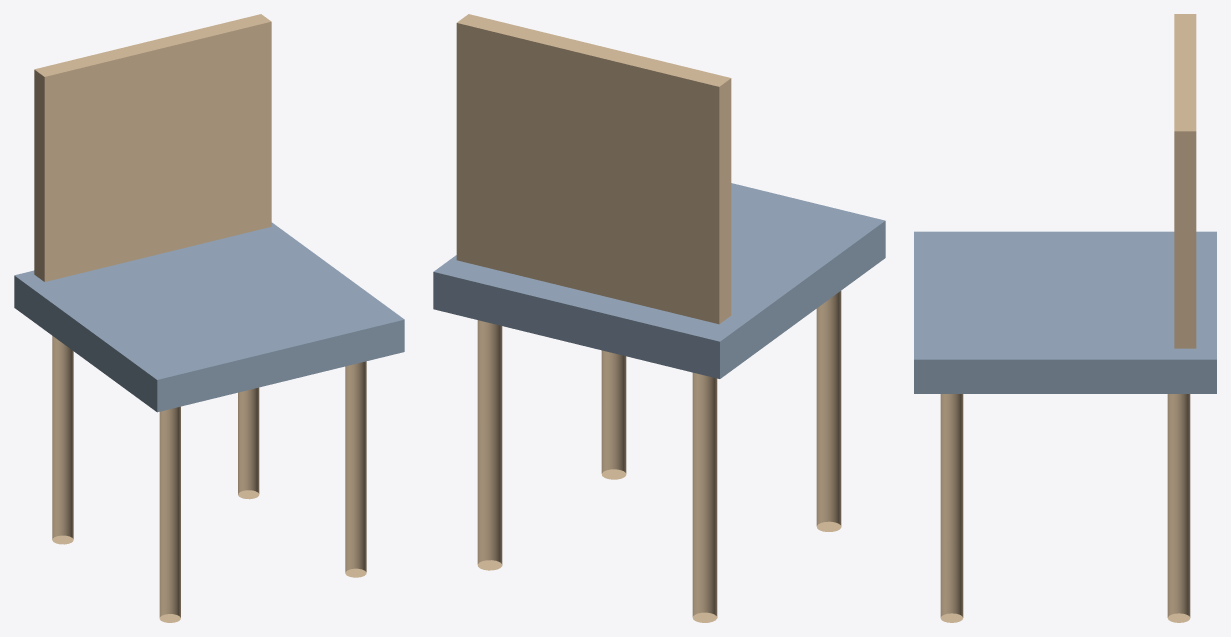
Rendered from DINING_CHAIR001.glb.
The picture shows the model from 3 angles, left to right: view 1: azimuth 30°, elevation 25°; view 2: azimuth 150°, elevation 25°; view 3: azimuth 270°, elevation 25°; orthographic projection. The views are drawn at different scales.
Parts seen in each view (by area): view 1: FurnitureRoot; view 2: FurnitureRoot; view 3: FurnitureRoot.
Part boxes in pixels (x1,y1,x2,y2): FurnitureRoot: (14,14,404,622); FurnitureRoot: (433,14,885,622); FurnitureRoot: (914,14,1216,622).
Size of the model in its own units: 48 by 87 by 48.
